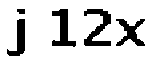1: (48, 6, 77, 52)
2: (81, 7, 114, 49)
j: (2, 7, 32, 58)
x: (114, 17, 148, 51)
